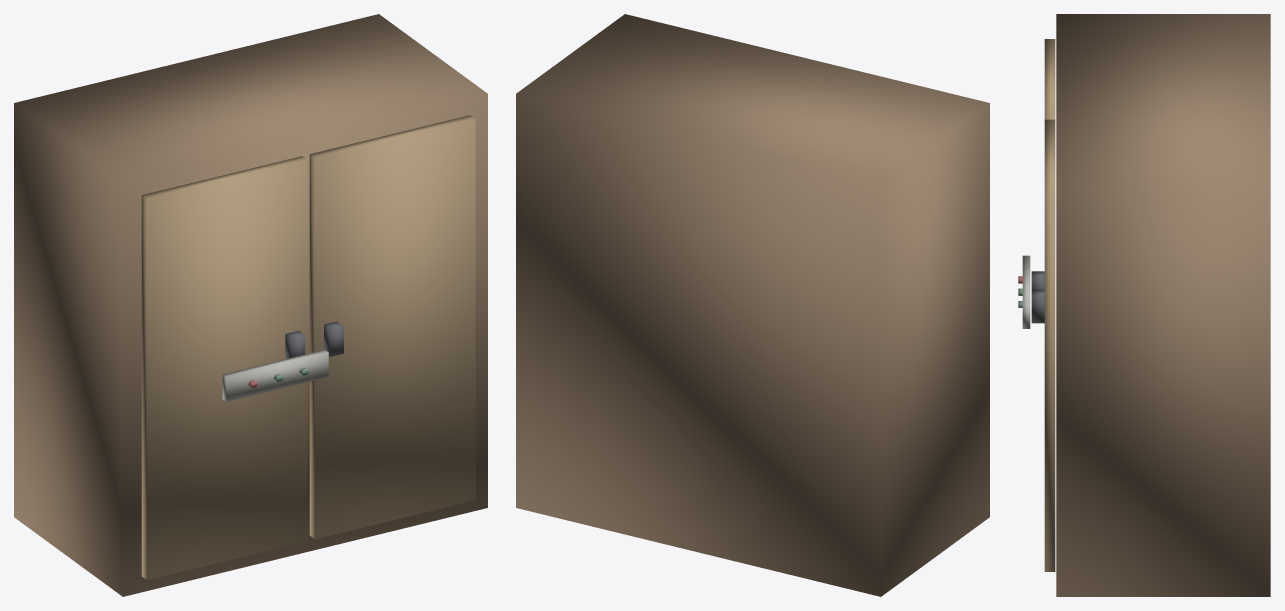
Rendered from kitchen_base_cabinet__squat.glb.
3 views of the same model, side by side, from view 1: azimuth 30°, elevation 25°; view 2: azimuth 150°, elevation 25°; view 3: azimuth 270°, elevation 25° (orthographic).
Parts seen in each view (by area): view 1: world; view 2: world; view 3: world.
Part boxes in pixels (x1,y1,x2,y2): world: (14,14,487,596); world: (516,14,989,596); world: (1018,14,1270,596).
Bounding box in the file's own units: 1.04 × 1.13 × 0.6356.
